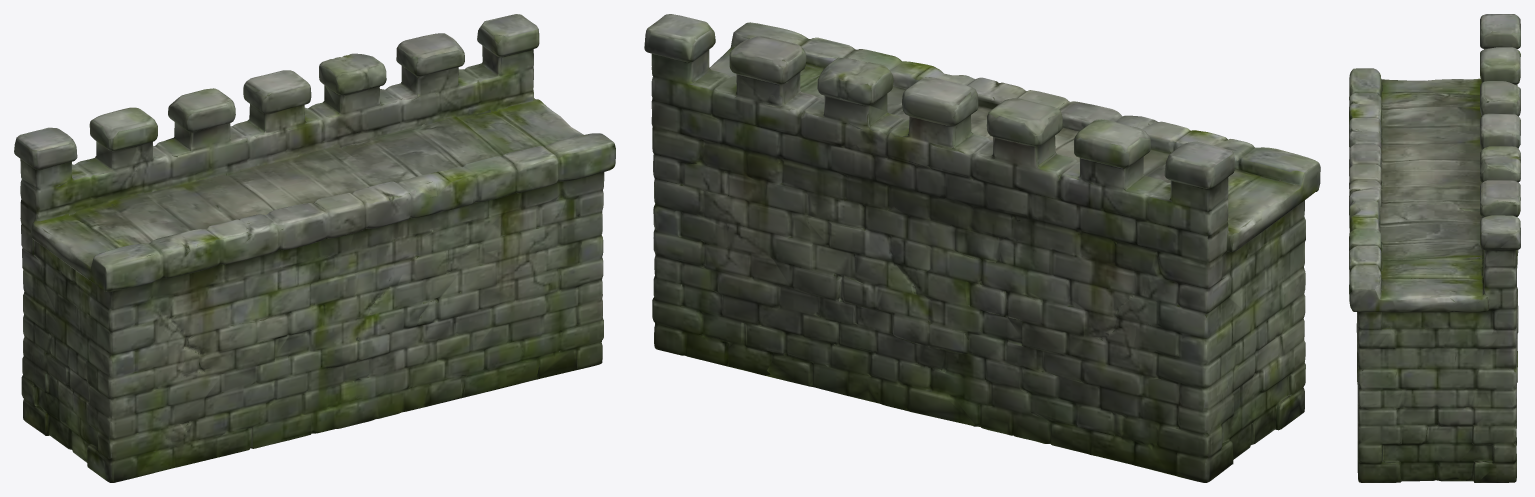
The model's file is wall.glb.
3 views of the same model, side by side, from view 1: azimuth 30°, elevation 25°; view 2: azimuth 150°, elevation 25°; view 3: azimuth 270°, elevation 25° (orthographic). The views are drawn at different scales.
Parts seen in each view (by area): view 1: Mesh_0; view 2: Mesh_0; view 3: Mesh_0.
Part boxes in pixels (x1,y1,x2,y2): Mesh_0: (14,14,615,482); Mesh_0: (644,14,1320,482); Mesh_0: (1349,14,1520,482).
Size of the model in its own units: 1.9 by 1.01 by 0.6235.
1 material, 1 textured.
